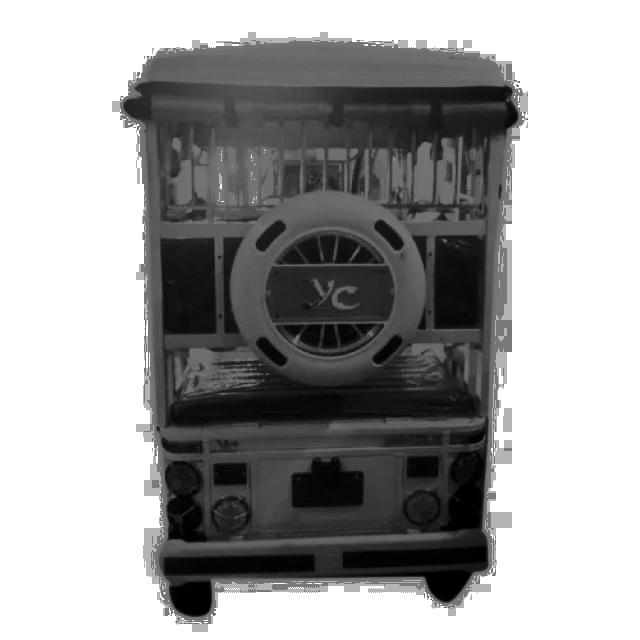Toto: (126, 21, 518, 633)
